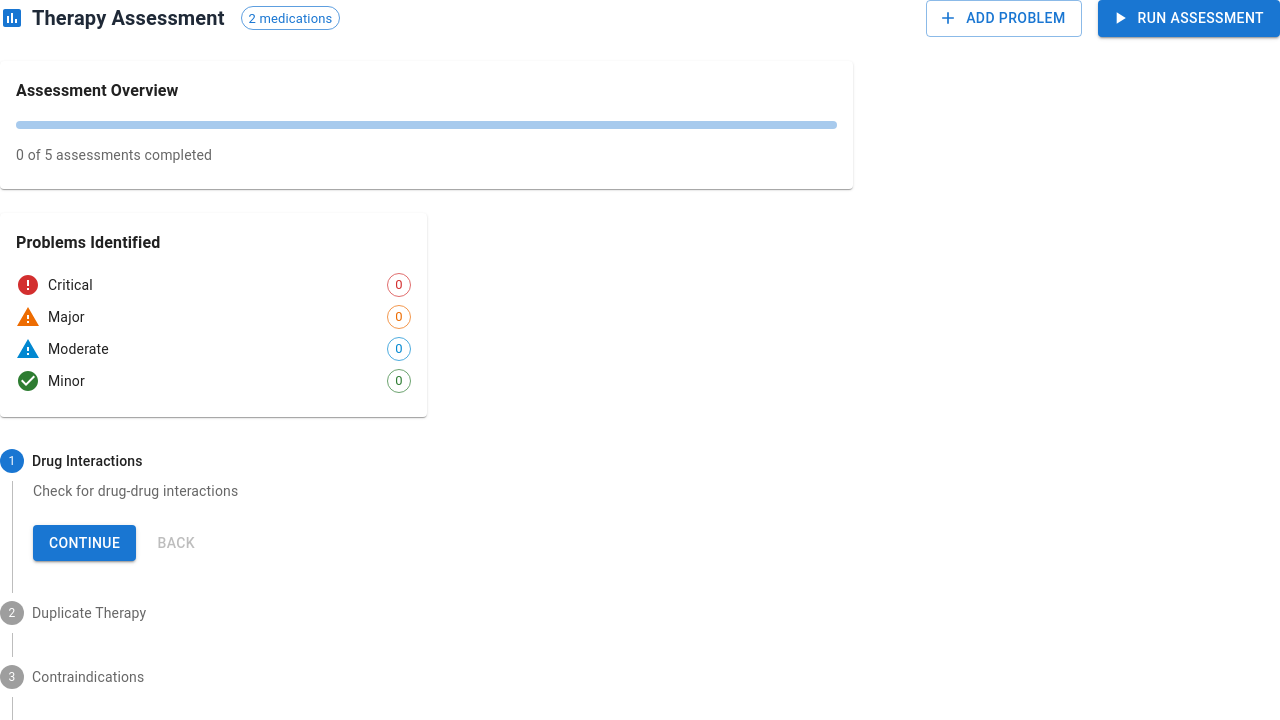
Test: TherapyAssessment › opens add problem dialog when Add Problem button is clicked
The width and height of the screenshot is (1280, 720).
Step 1. Click the button "Add Problem" → (1004, 18), box left=926, top=0, right=1082, bottom=36
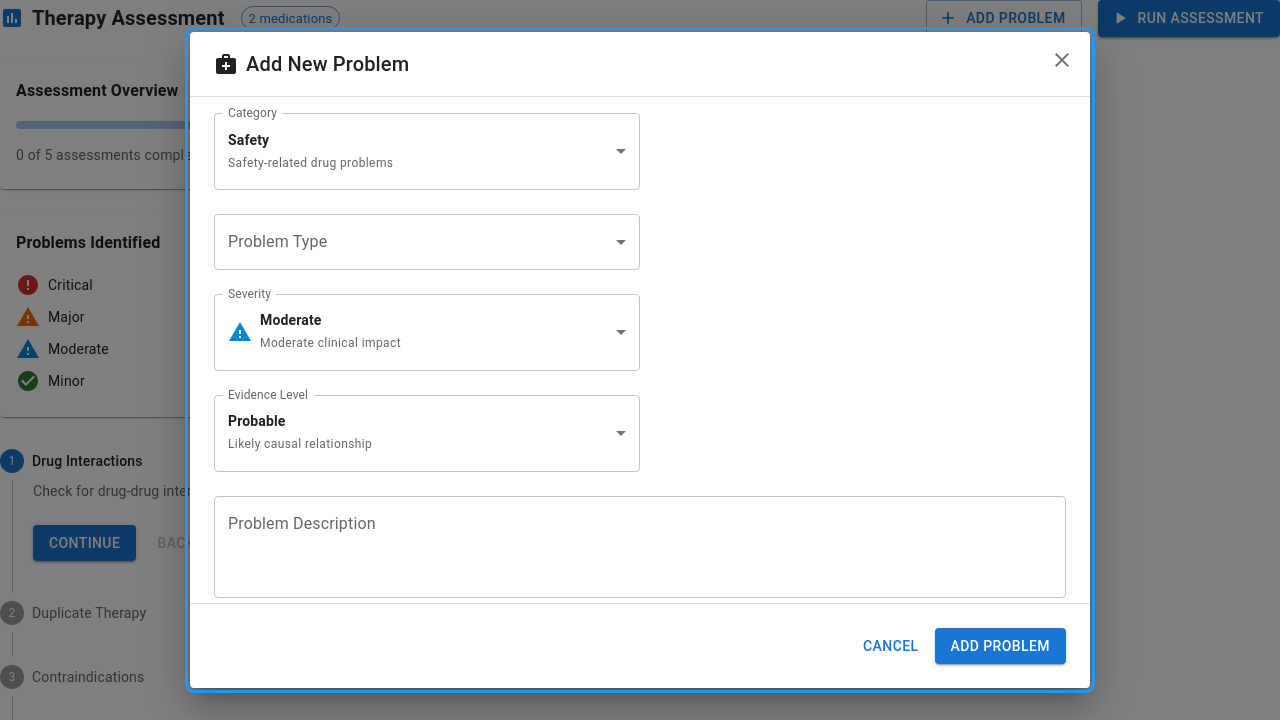
Check: the text "Add New Problem" is shown, box left=214, top=52, right=409, bottom=76
